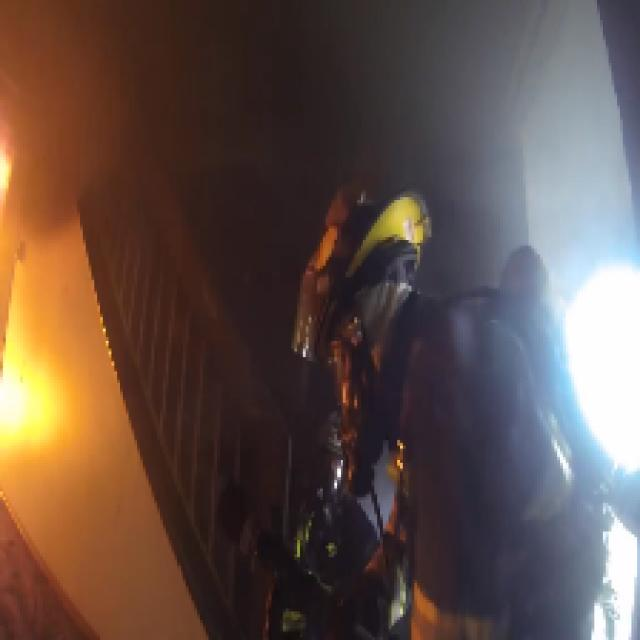Fire: (3, 359, 48, 452), (2, 120, 18, 206)
Smoke: (3, 2, 254, 268)
